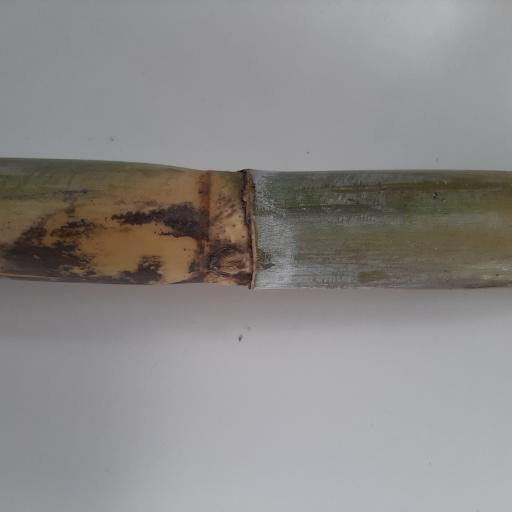Bud: (206, 246, 246, 277)
